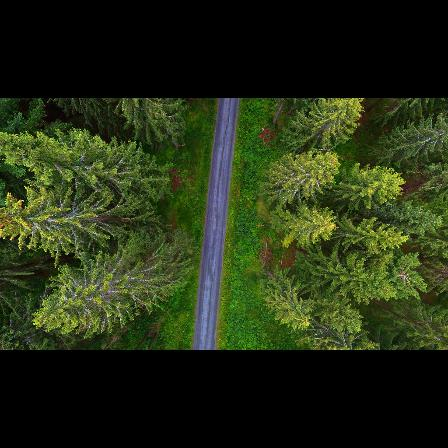Sick: (384, 258, 425, 298)
